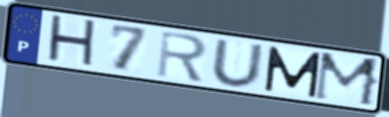7: (108, 23, 150, 74)
H: (45, 13, 99, 71)
M: (311, 50, 384, 110), (262, 44, 324, 100)
R: (155, 29, 210, 84)
U: (209, 38, 266, 90)
